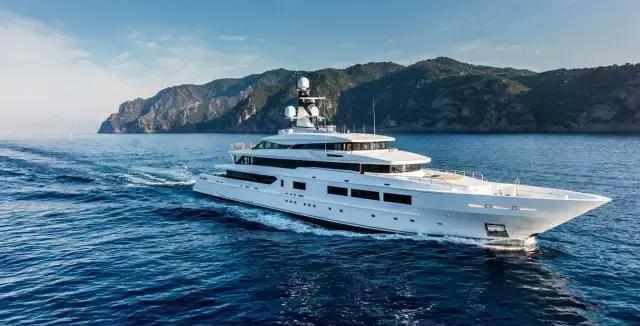yacht: (185, 75, 616, 246)
